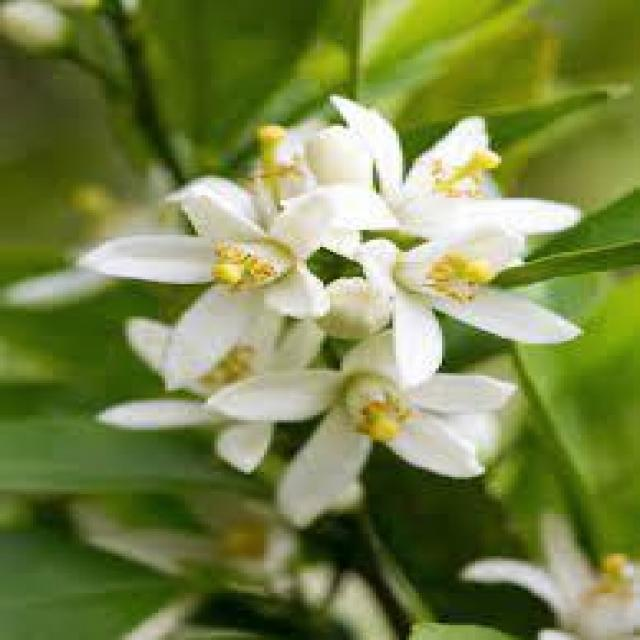Bunga: (224, 336, 512, 526), (82, 188, 336, 388), (327, 89, 590, 228), (99, 314, 333, 469), (350, 232, 588, 383), (458, 509, 640, 637), (303, 128, 386, 210), (310, 276, 396, 338)
